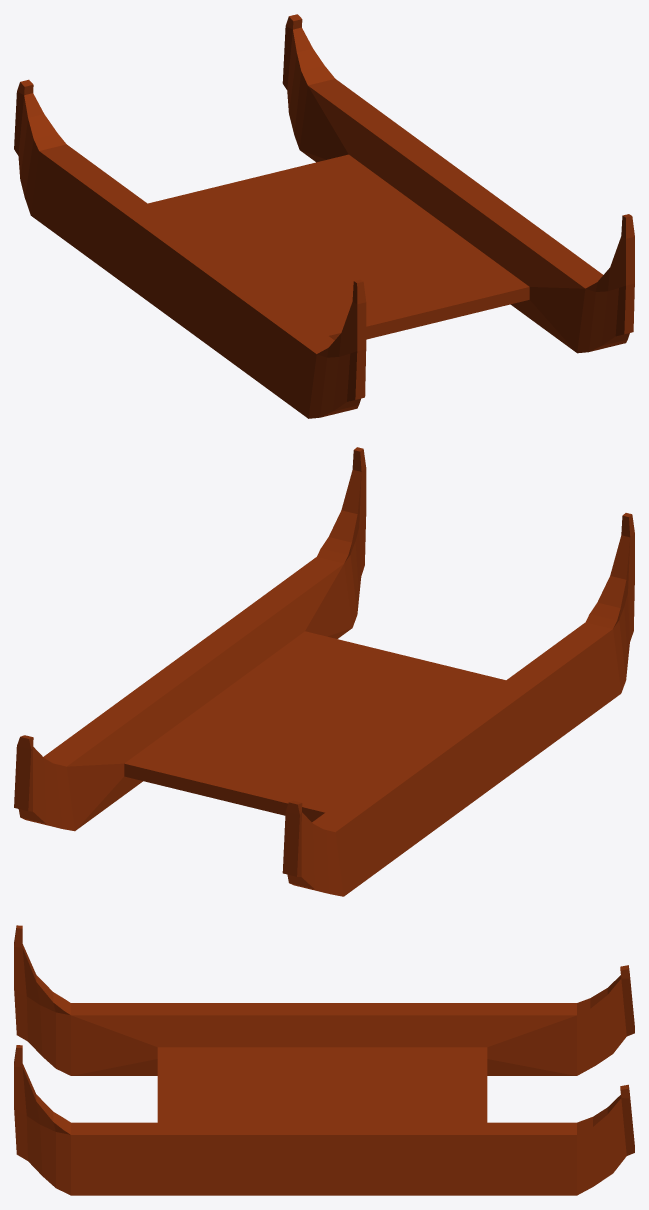
The model's file is PROP_advancedBoat.FBX.
3 renders of one model, top to bottom at view 1: azimuth 30°, elevation 25°; view 2: azimuth 150°, elevation 25°; view 3: azimuth 270°, elevation 25°, orthographic. The views are drawn at different scales.
Visible parts, largest first — view 1: barcalegno1; view 2: barcalegno1; view 3: barcalegno1.
Boxes of the visible parts, x1=… form: barcalegno1: x1=14, y1=14, x2=634, y2=418; barcalegno1: x1=14, y1=447, x2=634, y2=896; barcalegno1: x1=14, y1=925, x2=634, y2=1195.
Size of the model in its own units: 1.89 by 0.8849 by 3.57.
